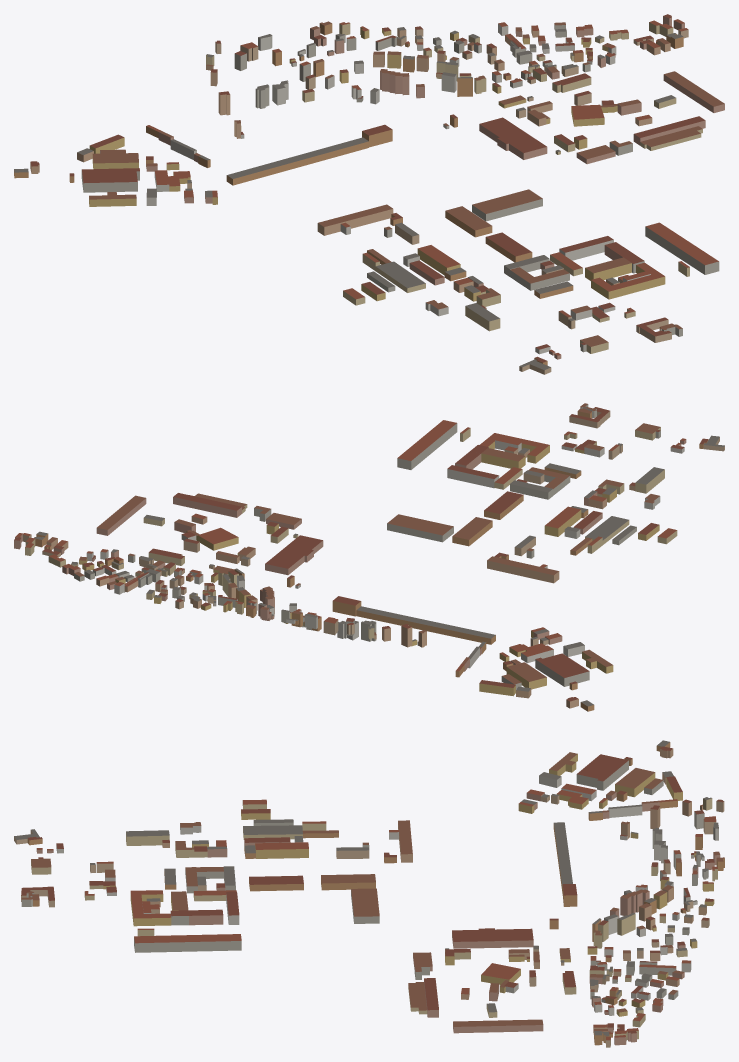
The model's file is SM_Fondale_Citta_SO_01.fbx.
3 renders of one model, top to bottom at view 1: azimuth 30°, elevation 25°; view 2: azimuth 150°, elevation 25°; view 3: azimuth 270°, elevation 25°, orthographic. The views are drawn at different scales.
Parts seen in each view (by area): view 1: SM_Fondale_Citta_SO_01; view 2: SM_Fondale_Citta_SO_01; view 3: SM_Fondale_Citta_SO_01.
Boxes of the visible parts, x1,y1,x2,y2 form: SM_Fondale_Citta_SO_01: (14, 14, 724, 374); SM_Fondale_Citta_SO_01: (14, 403, 724, 711); SM_Fondale_Citta_SO_01: (14, 740, 724, 1047).
Size of the model in its own units: 113610 by 111113 by 10679.
